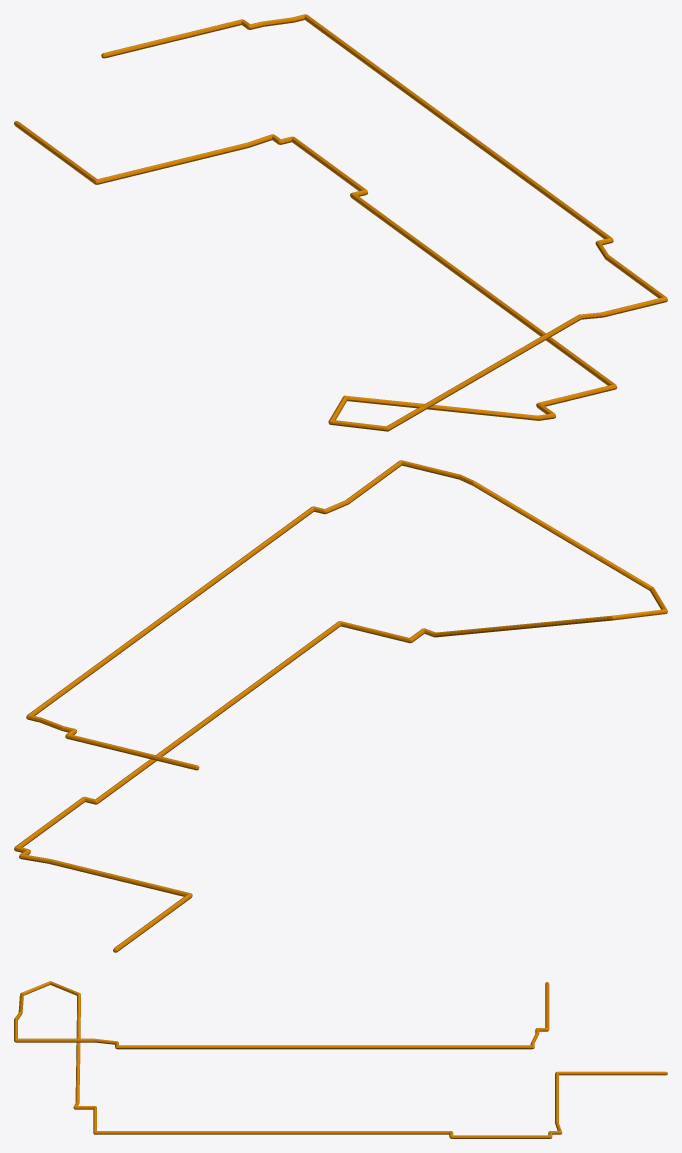
3 views of the same model, one above another, from view 1: azimuth 30°, elevation 25°; view 2: azimuth 150°, elevation 25°; view 3: azimuth 270°, elevation 25° (orthographic). The views are drawn at different scales.
Size of the model in its own units: 1326 by 520 by 3304.
